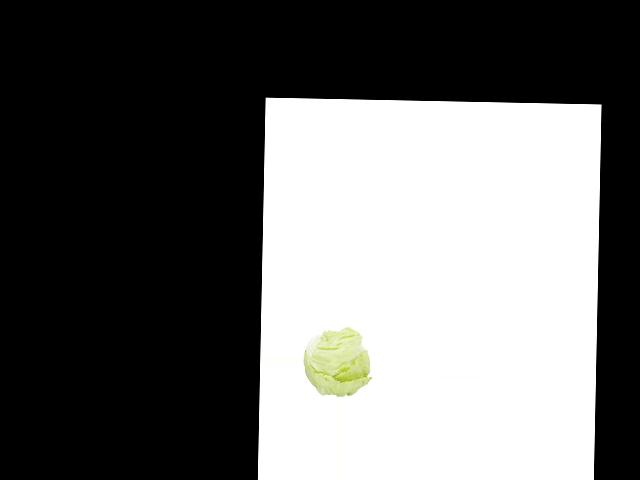lettuce: (300, 329, 371, 397)
